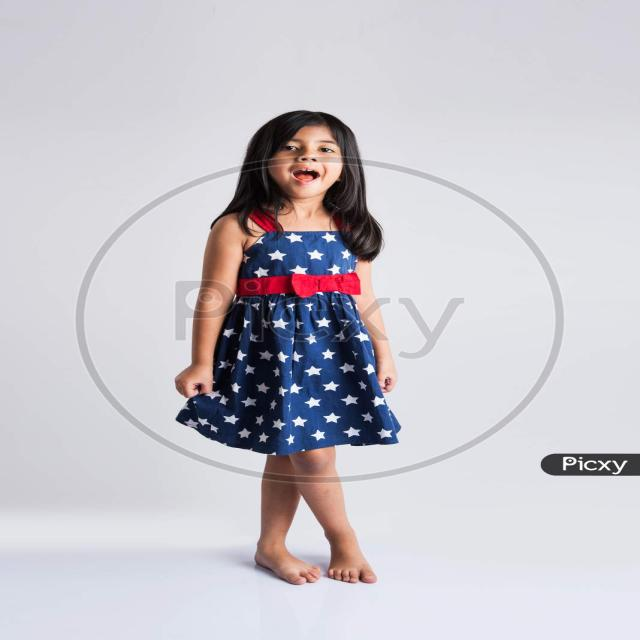child: (168, 105, 408, 594)
